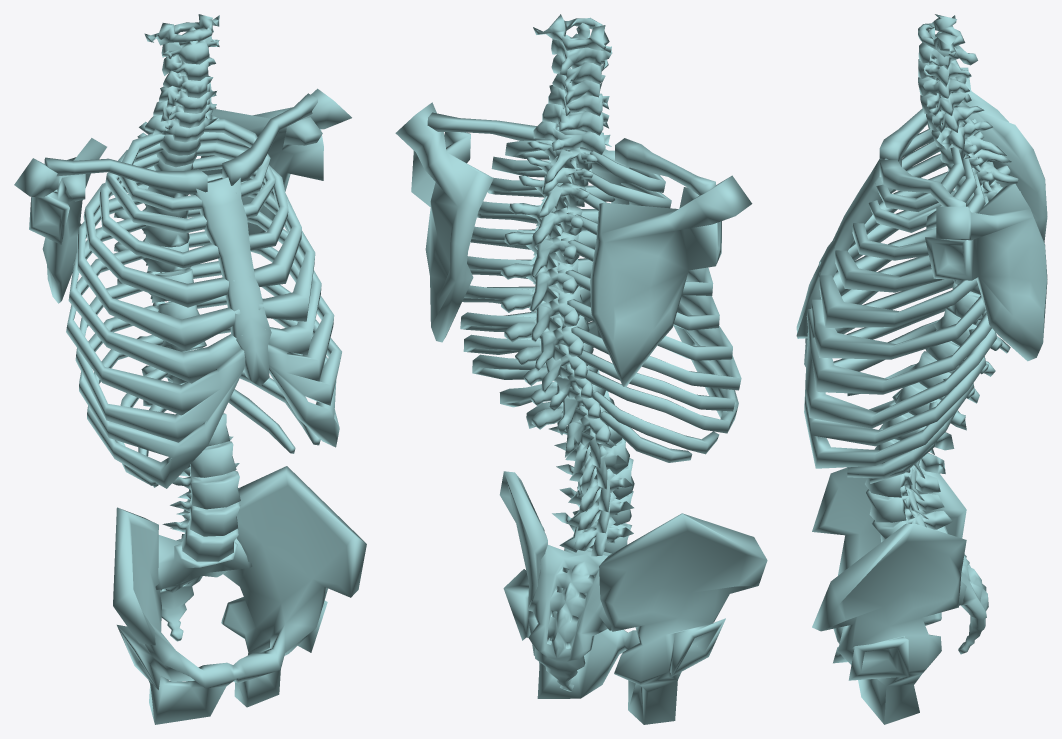
Rendered from Skelly_spine.fbx.
3 views of the same model, side by side, from view 1: azimuth 30°, elevation 25°; view 2: azimuth 150°, elevation 25°; view 3: azimuth 270°, elevation 25° (orthographic). The views are drawn at different scales.
Visible parts, largest first — view 1: Skelly_spine; view 2: Skelly_spine; view 3: Skelly_spine.
Boxes of the visible parts, x1,y1,x2,y2 form: Skelly_spine: (14, 14, 366, 724); Skelly_spine: (395, 14, 767, 724); Skelly_spine: (796, 14, 1047, 724).
Bounding box in the file's own units: 38.91 × 77.04 × 26.15.
